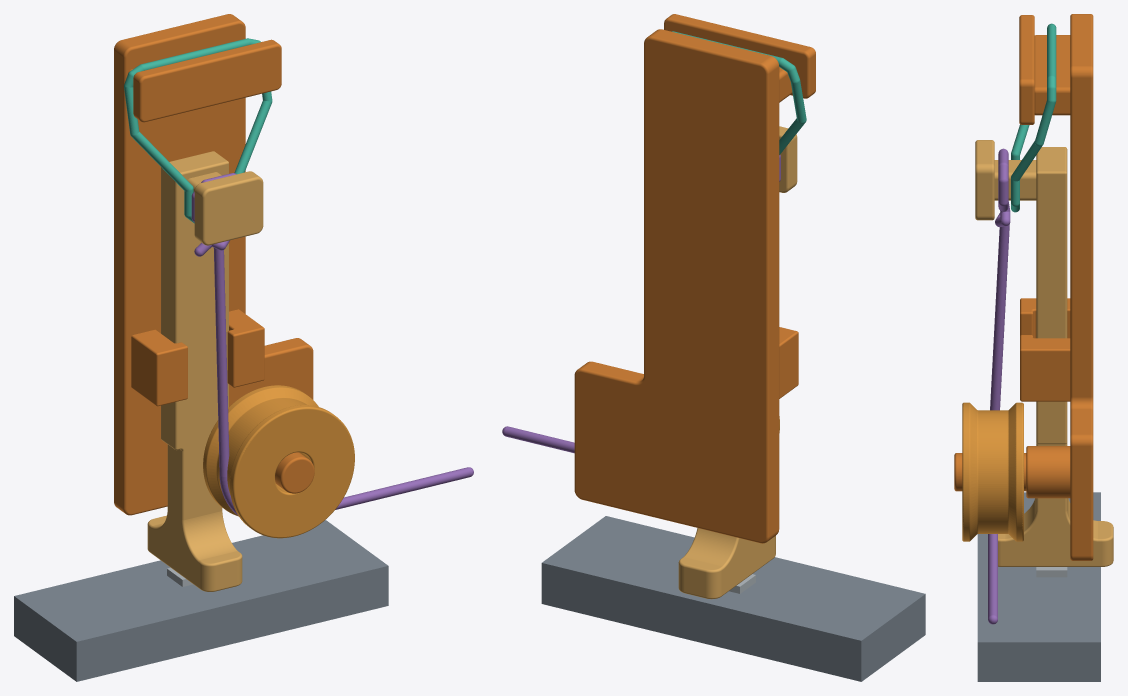
File: a1-band-return.glb
3 views of the same model, side by side, from view 1: azimuth 30°, elevation 25°; view 2: azimuth 150°, elevation 25°; view 3: azimuth 270°, elevation 25° (orthographic). The views are drawn at different scales.
Visible parts, largest first — view 1: body, phone_reference, plunger, pulley, twine, return_band; view 2: body, phone_reference, plunger, return_band, twine; view 3: body, plunger, phone_reference, pulley, twine, return_band, button_reference.
Part boxes in pixels (x1=…): body: x1=114, y1=14, x2=314, y2=515; phone_reference: x1=14, y1=520, x2=388, y2=681; plunger: x1=147, y1=151, x2=263, y2=591; pulley: x1=203, y1=385, x2=354, y2=538; twine: x1=191, y1=173, x2=473, y2=515; return_band: x1=124, y1=38, x2=272, y2=223; body: x1=574, y1=14, x2=815, y2=543; phone_reference: x1=541, y1=516, x2=925, y2=681; plunger: x1=678, y1=126, x2=797, y2=599; return_band: x1=672, y1=31, x2=806, y2=154; twine: x1=502, y1=155, x2=780, y2=453; body: x1=954, y1=14, x2=1093, y2=560; plunger: x1=975, y1=140, x2=1113, y2=566; phone_reference: x1=977, y1=492, x2=1100, y2=681; pulley: x1=962, y1=402, x2=1023, y2=541; twine: x1=988, y1=148, x2=1010, y2=624; return_band: x1=1011, y1=23, x2=1056, y2=212; button_reference: x1=1036, y1=567, x2=1067, y2=577.
Size of the model in its own units: 59.65 by 81 by 20.6.
